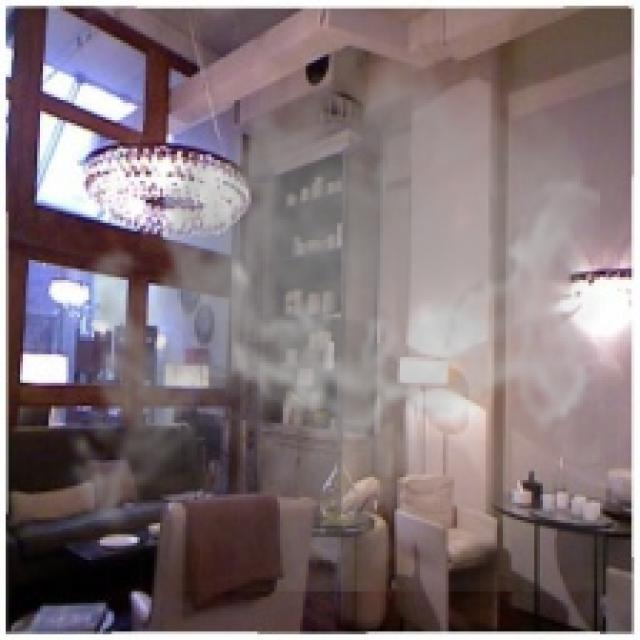smoke: (51, 34, 606, 592)
